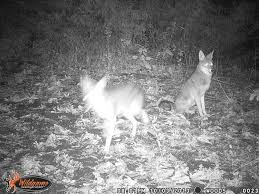coyote: (169, 44, 220, 121)
